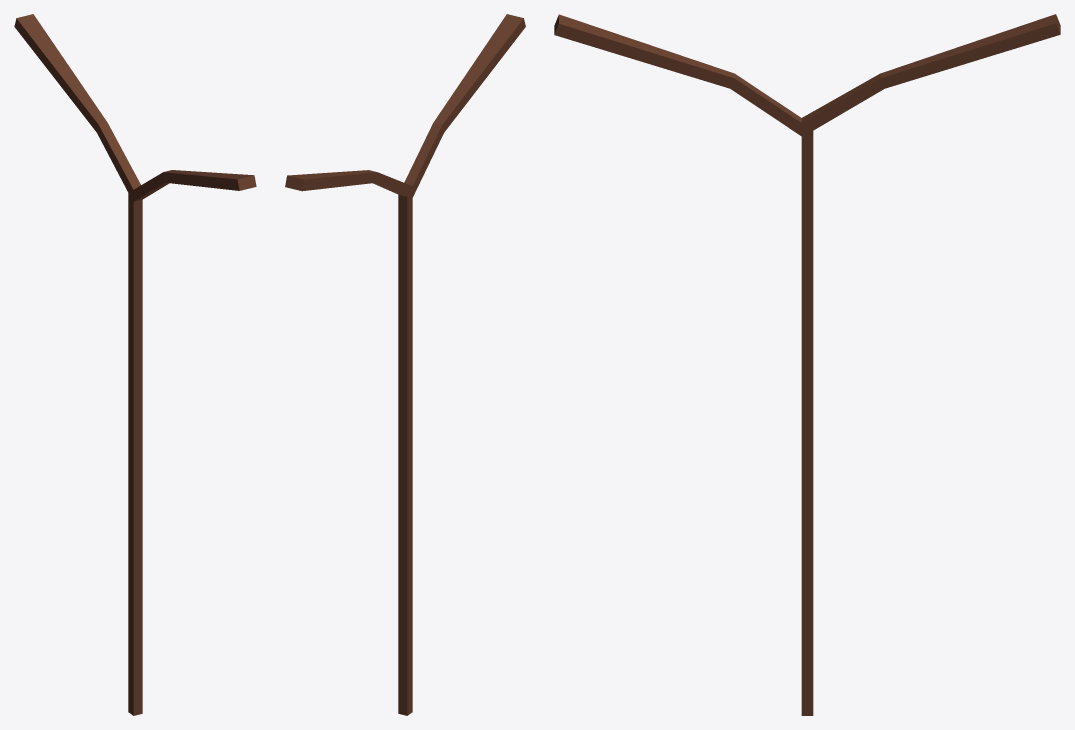
Rendered from Prop_Light_Road_B_col.fbx.
The picture shows the model from 3 angles, left to right: view 1: azimuth 30°, elevation 25°; view 2: azimuth 150°, elevation 25°; view 3: azimuth 270°, elevation 25°; orthographic projection. The views are drawn at different scales.
Parts seen in each view (by area): view 1: Prop_Light_Road_B_col; view 2: Prop_Light_Road_B_col; view 3: Prop_Light_Road_B_col.
Part boxes in pixels (bbox=[...]): Prop_Light_Road_B_col: bbox=[14, 14, 256, 715]; Prop_Light_Road_B_col: bbox=[285, 14, 525, 715]; Prop_Light_Road_B_col: bbox=[554, 14, 1060, 715].
Bounding box in the file's own units: 29.46 × 985 × 651.
